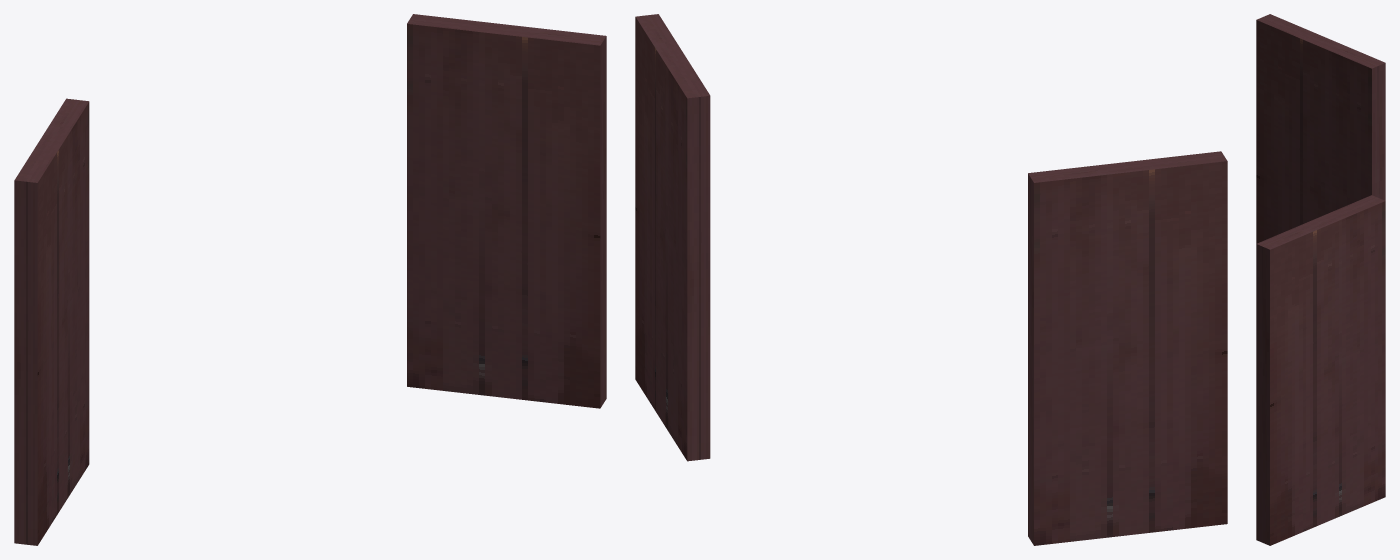
File: shutters_small_single_open_02.glb
The picture shows the model from 3 angles, left to right: view 1: azimuth 30°, elevation 25°; view 2: azimuth 150°, elevation 25°; view 3: azimuth 270°, elevation 25°; orthographic projection. The views are drawn at different scales.
Visible parts, largest first — view 1: shutters_small_single_open_022; view 2: shutters_small_single_open_022; view 3: shutters_small_single_open_022.
Boxes of the visible parts, x1,y1,x2,y2 form: shutters_small_single_open_022: (14, 14, 606, 545); shutters_small_single_open_022: (635, 14, 1227, 545); shutters_small_single_open_022: (1256, 14, 1385, 545).
Size of the model in its own units: 1.71 by 1 by 0.396.
1 material, 1 textured.
